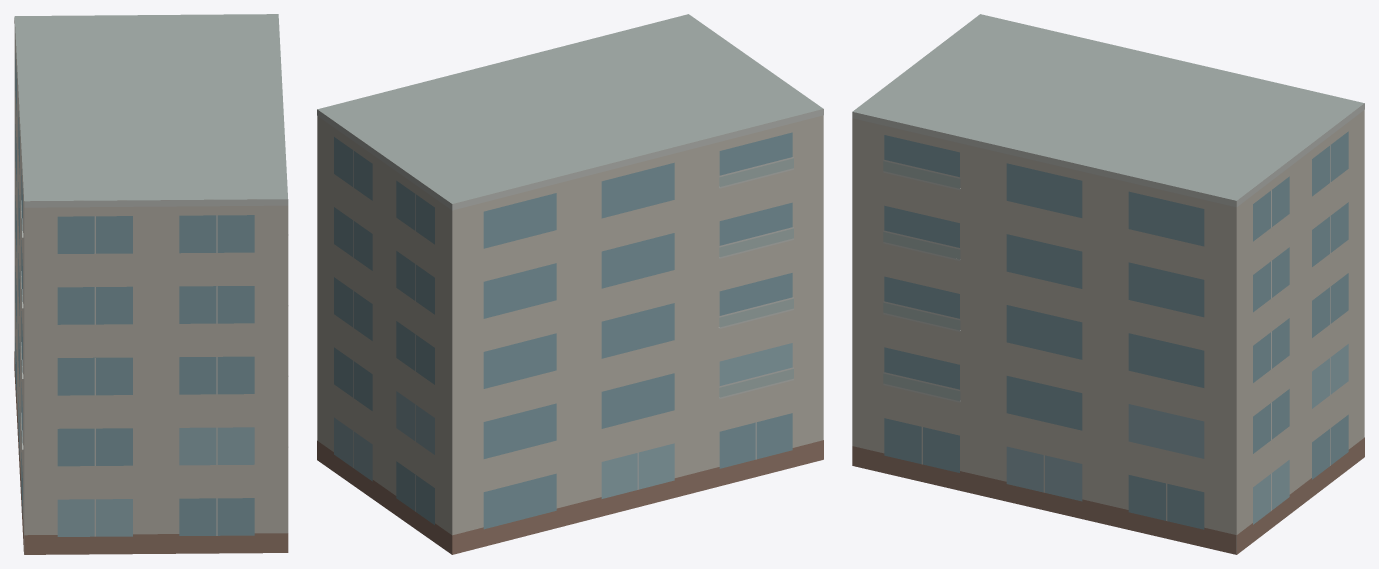
File: survey-upis-32792608.glb
The picture shows the model from 3 angles, left to right: view 1: azimuth 30°, elevation 25°; view 2: azimuth 150°, elevation 25°; view 3: azimuth 270°, elevation 25°; orthographic projection.
Parts seen in each view (by area): view 1: survey-upis-32792608.tmp; view 2: survey-upis-32792608.tmp; view 3: survey-upis-32792608.tmp.
Part boxes in pixels (<box>): survey-upis-32792608.tmp: <box>14,14,288,554</box>; survey-upis-32792608.tmp: <box>317,14,823,554</box>; survey-upis-32792608.tmp: <box>852,14,1364,554</box>.
Bounding box in the file's own units: 15.06 × 13.3 × 17.46.
